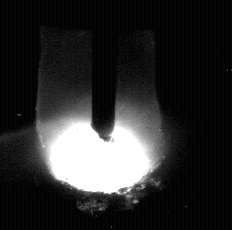arame: (92, 0, 117, 142)
poca: (36, 0, 162, 230)
